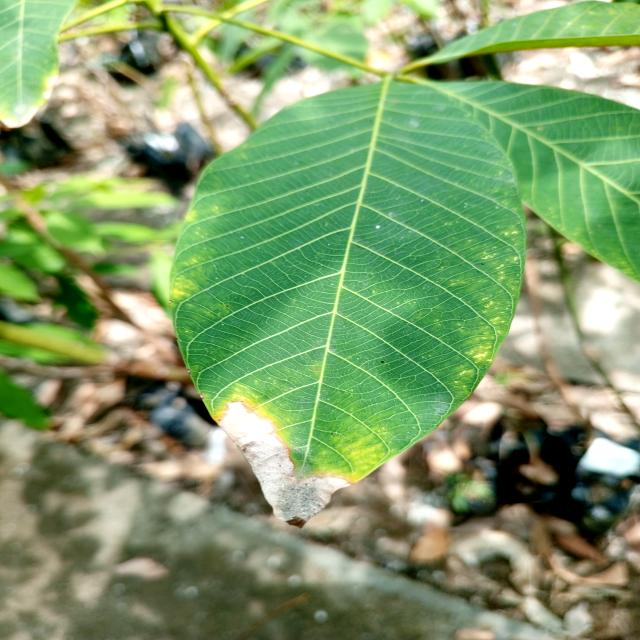Colletotrichum: (187, 369, 191, 373), (168, 300, 172, 304), (226, 305, 229, 307)
Leaf-Blight: (216, 399, 354, 528)
